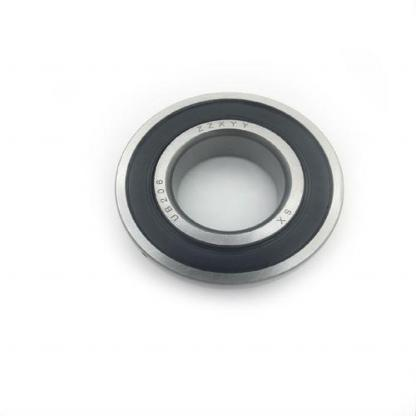FOD: (111, 88, 348, 287)
